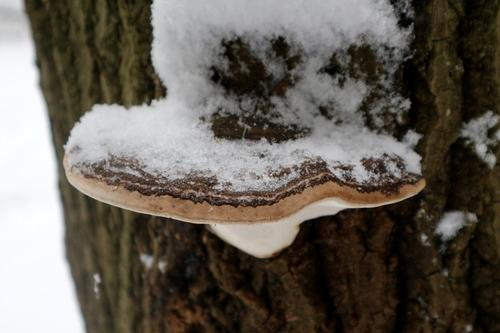Ganoderma - Fruit Body: (67, 107, 425, 260)
